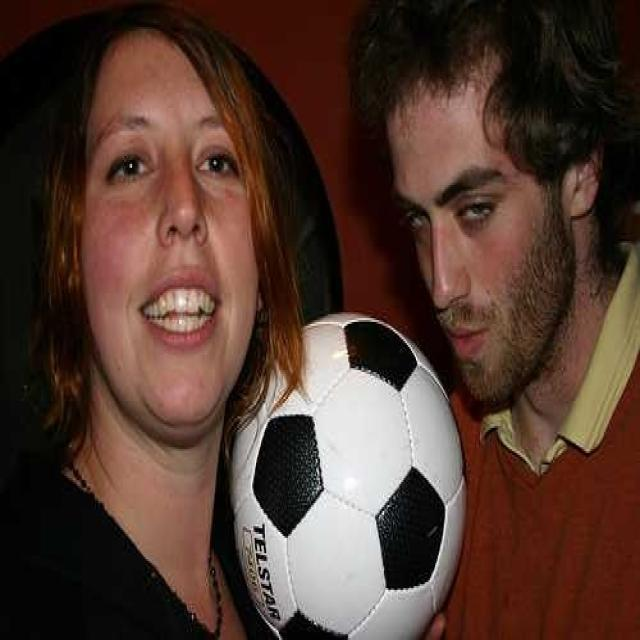ball: (228, 310, 468, 640)
